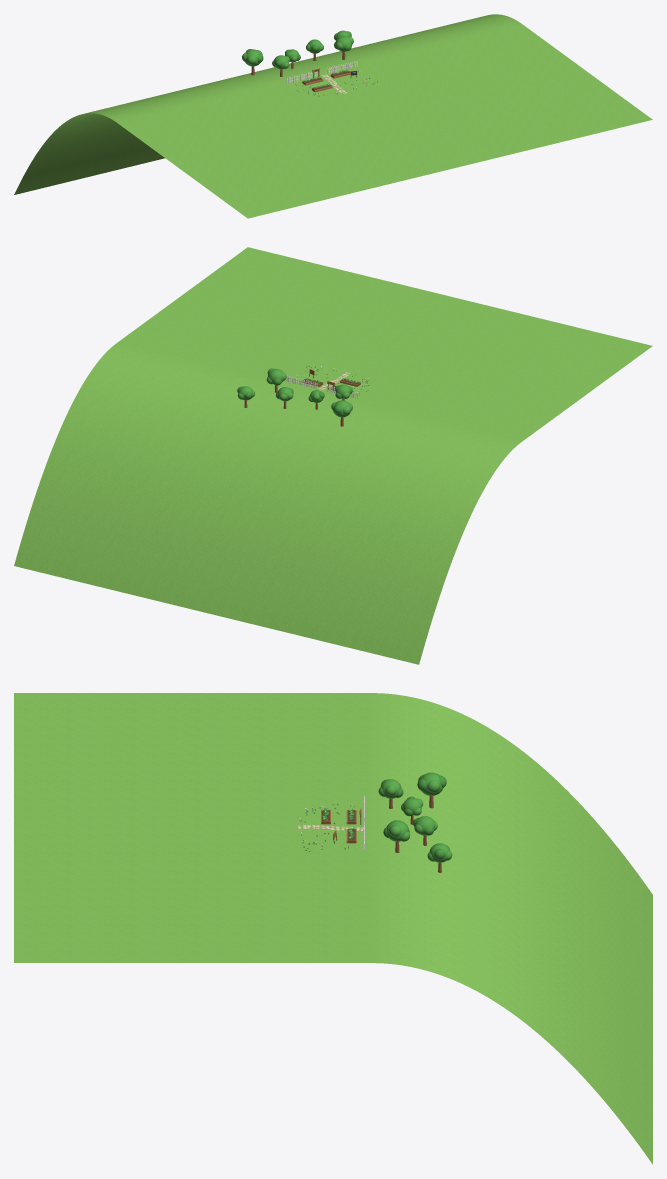
File: garden.glb
3 views of the same model, one above another, from view 1: azimuth 30°, elevation 25°; view 2: azimuth 150°, elevation 25°; view 3: azimuth 270°, elevation 25° (orthographic). The views are drawn at different scales.
Parts seen in each view (by area): view 1: Garden.Ground; view 2: Garden.Ground; view 3: Garden.Ground.
Boxes of the visible parts, x1,y1,x2,y2 form: Garden.Ground: [14, 14, 652, 218]; Garden.Ground: [14, 247, 652, 664]; Garden.Ground: [14, 693, 652, 1164].
Bounding box in the file's own units: 30 × 11.96 × 30.
27 materials, 1 textured.
